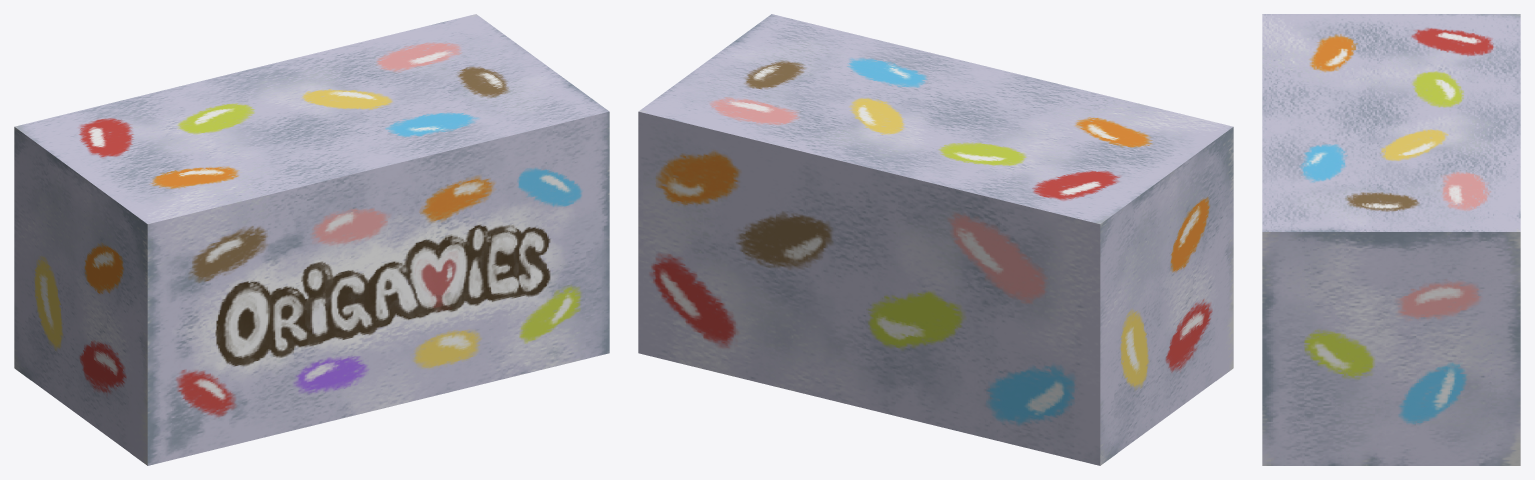
File: G_Origamies.fbx
3 renders of one model, left to right at view 1: azimuth 30°, elevation 25°; view 2: azimuth 150°, elevation 25°; view 3: azimuth 270°, elevation 25°, orthographic. The views are drawn at different scales.
Visible parts, largest first — view 1: Origamies._front, Origamies_top, Origamies_left, Origamies_back, Origamies_bottom; view 2: Origamies_back, Origamies_top, Origamies_left, Origamies._front, Origamies_bottom; view 3: Origamies_top, Origamies_right, Origamies._front, Origamies_back, Origamies_bottom.
Boxes of the visible parts, <box> form: Origamies._front: <box>130,98,609,465</box>; Origamies_top: <box>31,26,591,242</box>; Origamies_left: <box>31,171,129,419</box>; Origamies_back: <box>14,14,492,380</box>; Origamies_bottom: <box>31,348,129,452</box>; Origamies_back: <box>638,99,1117,465</box>; Origamies_top: <box>655,27,1215,243</box>; Origamies_left: <box>1117,171,1215,420</box>; Origamies._front: <box>754,14,1233,380</box>; Origamies_bottom: <box>1117,349,1215,452</box>; Origamies_top: <box>1296,14,1487,262</box>; Origamies_right: <box>1296,263,1487,434</box>; Origamies._front: <box>1262,14,1296,465</box>; Origamies_back: <box>1487,14,1520,465</box>; Origamies_bottom: <box>1296,435,1487,465</box>.
Size of the model in its own units: 1.4 by 0.6996 by 0.6996.
